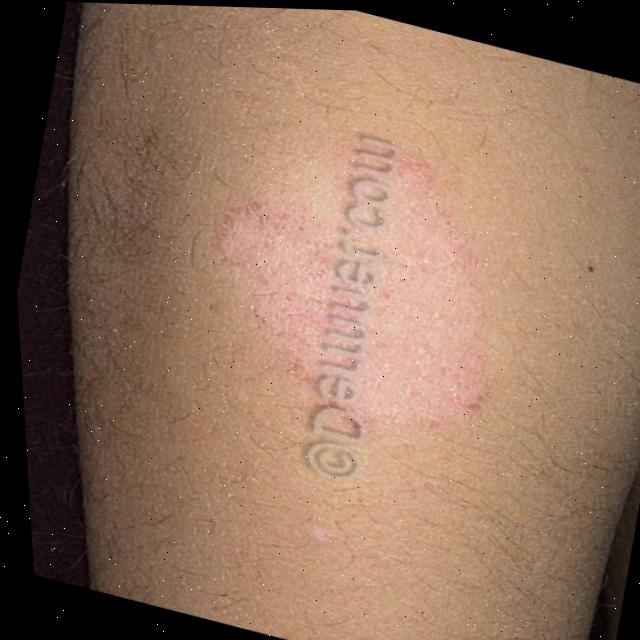Eczema: (164, 100, 544, 500)
